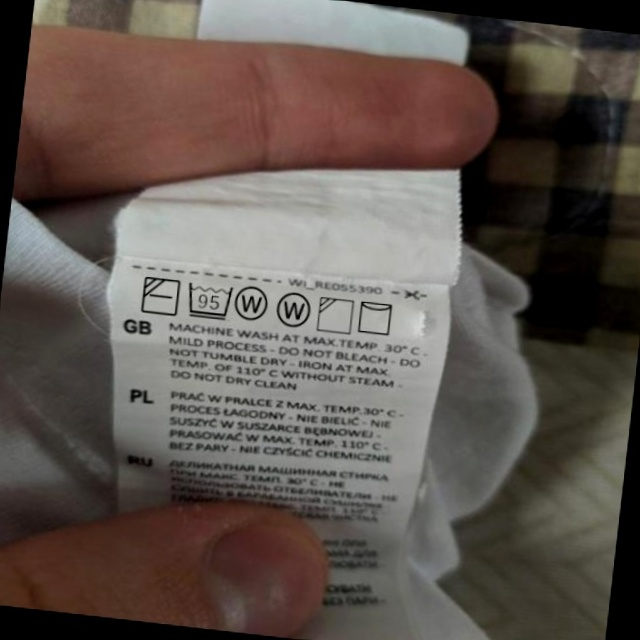95C: (183, 279, 236, 322)
dry_flat_in_shade: (138, 272, 182, 319)
line_dry: (355, 296, 398, 339)
shade_dry: (314, 294, 357, 337)
wet_clean: (233, 280, 273, 324), (274, 289, 314, 332)
